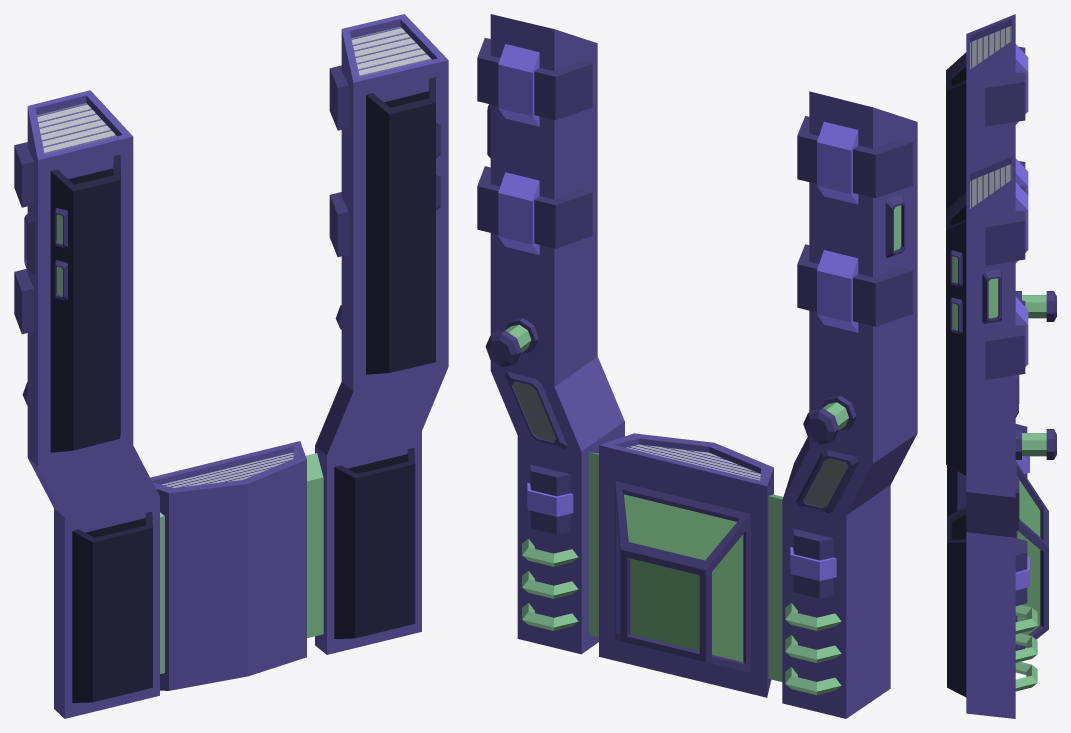
The model's file is agile-ship-final.fbx.
3 renders of one model, left to right at view 1: azimuth 30°, elevation 25°; view 2: azimuth 150°, elevation 25°; view 3: azimuth 270°, elevation 25°, orthographic. The views are drawn at different scales.
Visible parts, largest first — view 1: AgileShipFinal; view 2: AgileShipFinal; view 3: AgileShipFinal.
Part boxes in pixels (<box>): AgileShipFinal: <box>14,14,448,718</box>; AgileShipFinal: <box>477,14,917,718</box>; AgileShipFinal: <box>946,14,1056,718</box>.
Bounding box in the file's own units: 278 × 384 × 70.
